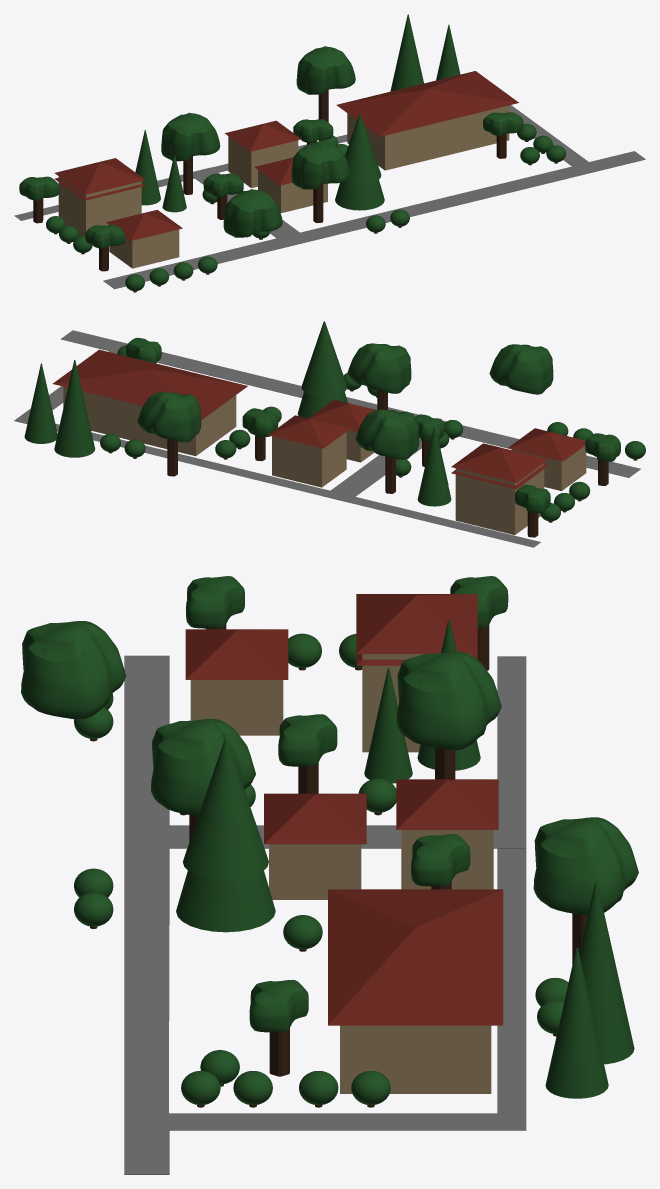
Rendered from city1.FBX.
3 renders of one model, top to bottom at view 1: azimuth 30°, elevation 25°; view 2: azimuth 150°, elevation 25°; view 3: azimuth 270°, elevation 25°, orthographic. The views are drawn at different scales.
Parts seen in each view (by area): view 1: Line002, Pyramid005, Box002, Line004, Box006, Line010, Line008, Line003, Pyramid008, Box009, Box003, Cylinder006 (+16 smaller); view 2: Pyramid005, Line002, Box002, Box006, Rectangle004, Line010, Box003, Line004, Line008, Line003, Cylinder005, Pyramid008 (+17 smaller); view 3: Line002, Pyramid005, Rectangle004, Box002, Line010, Line003, Line008, Pyramid008, Cylinder006, Line004, Pyramid001, Pyramid006 (+27 smaller).
Boxes of the visible parts, left/top/right/bottom form: Line002: left=103, top=105, right=645, bottom=289; Pyramid005: left=336, top=71, right=518, bottom=136; Box002: left=347, top=105, right=509, bottom=170; Line004: left=291, top=141, right=350, bottom=223; Box006: left=58, top=182, right=141, bottom=236; Line010: left=296, top=46, right=355, bottom=122; Line008: left=223, top=189, right=282, bottom=237; Line003: left=161, top=112, right=220, bottom=161; Pyramid008: left=54, top=158, right=145, bottom=194; Box009: left=109, top=229, right=179, bottom=268; Box003: left=228, top=136, right=298, bottom=188; Cylinder006: left=344, top=113, right=381, bottom=184; Pyramid005: left=52, top=349, right=247, bottom=419; Line002: left=14, top=330, right=640, bottom=502; Box002: left=63, top=386, right=236, bottom=456; Box006: left=455, top=469, right=544, bottom=534; Rectangle004: left=55, top=423, right=540, bottom=547; Line010: left=137, top=392, right=201, bottom=476; Box003: left=272, top=432, right=346, bottom=487; Line004: left=347, top=343, right=411, bottom=409; Line008: left=489, top=344, right=553, bottom=394; Line003: left=355, top=409, right=419, bottom=459; Cylinder005: left=54, top=360, right=95, bottom=457; Pyramid008: left=451, top=443, right=548, bottom=482; Line002: left=124, top=655, right=526, bottom=1174; Pyramid005: left=328, top=889, right=503, bottom=1025; Rectangle004: left=497, top=656, right=526, bottom=1113; Box002: left=340, top=1025, right=491, bottom=1093; Line010: left=533, top=817, right=638, bottom=964; Line003: left=396, top=651, right=501, bottom=750; Line008: left=21, top=621, right=126, bottom=719; Pyramid008: left=356, top=594, right=477, bottom=653; Cylinder006: left=183, top=738, right=268, bottom=880; Line004: left=151, top=719, right=255, bottom=841; Pyramid001: left=264, top=793, right=366, bottom=844; Pyramid006: left=185, top=629, right=288, bottom=679.
Size of the model in its own units: 20724 by 3578 by 10394.
